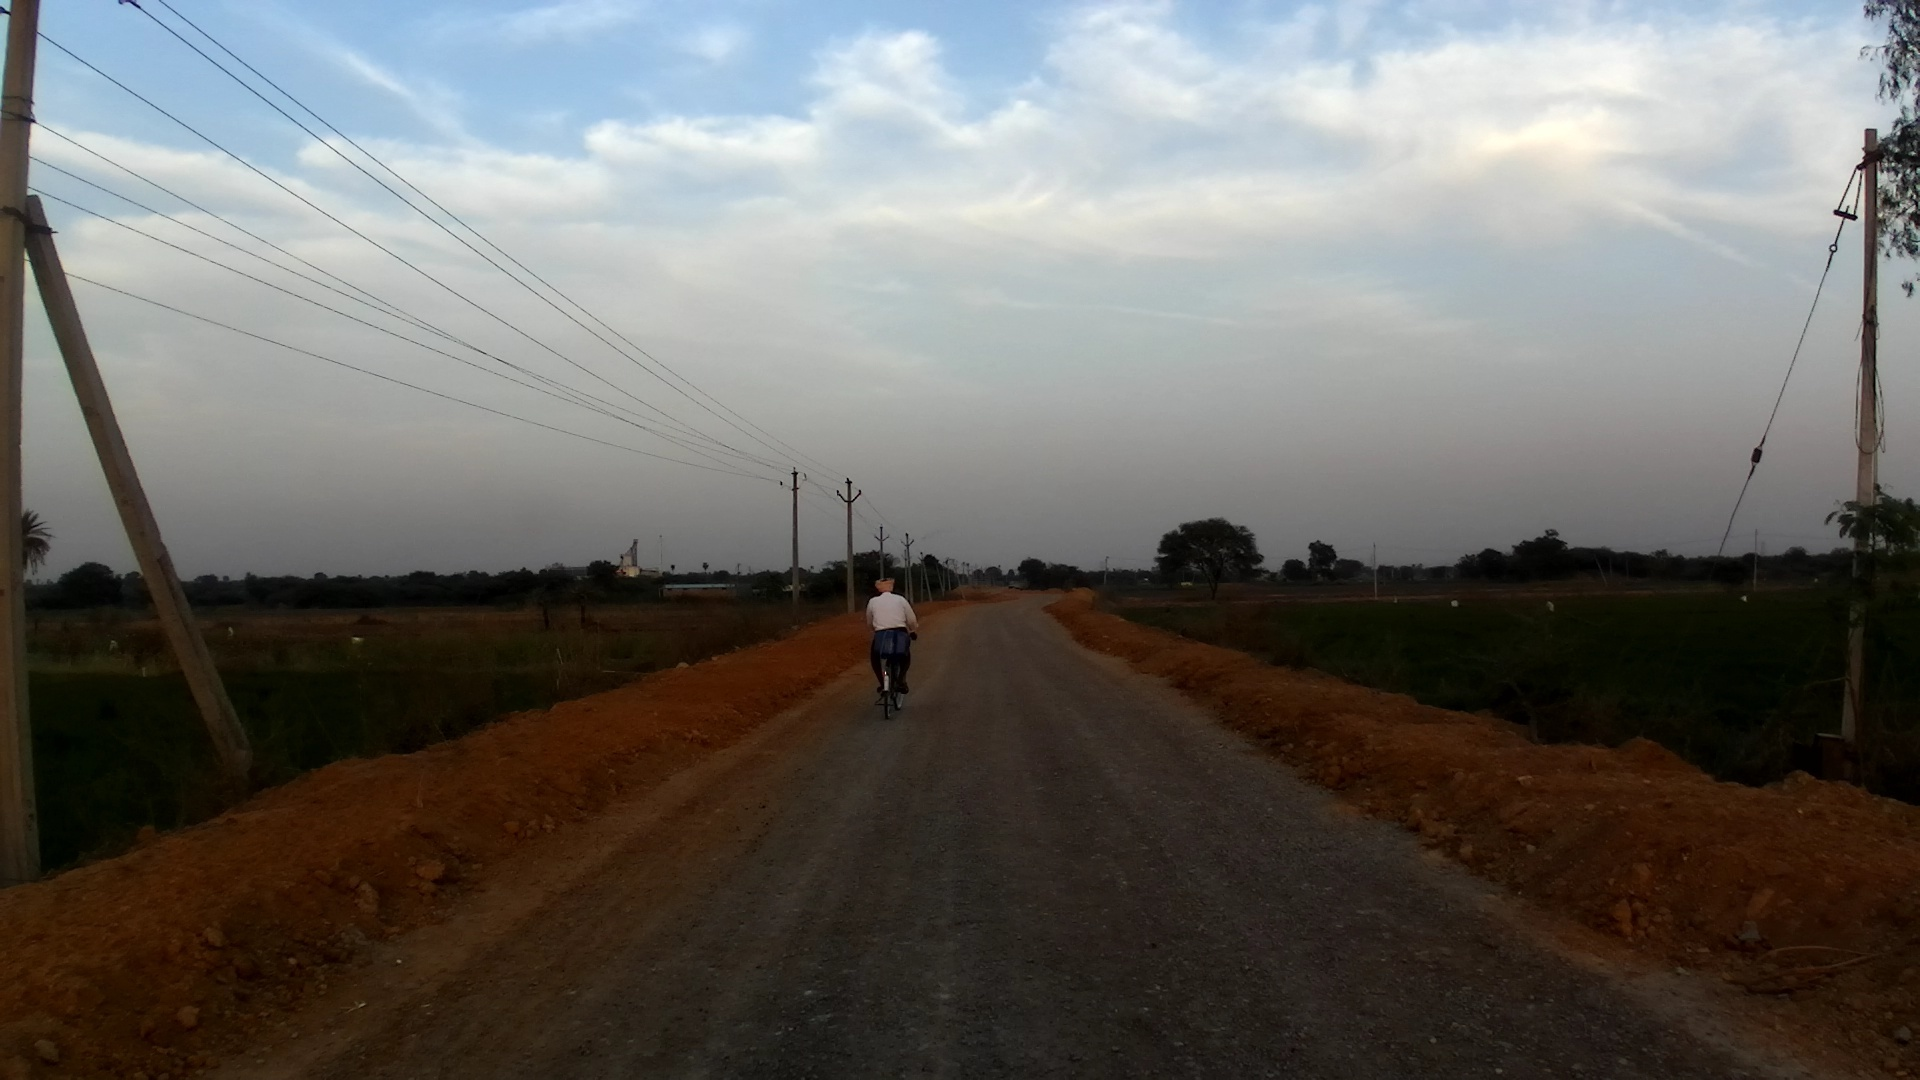bicycle: (865, 612, 924, 722)
rider: (866, 574, 924, 698)
